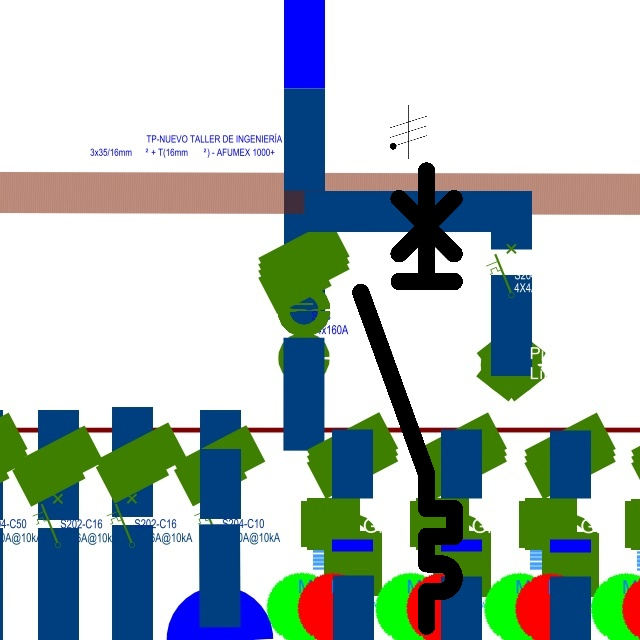interruptor_termomagnetico: (349, 159, 466, 638)
